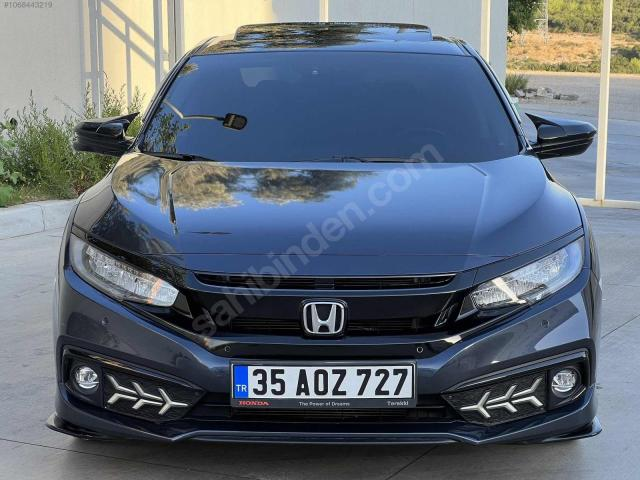plaka: (232, 363, 415, 407)
